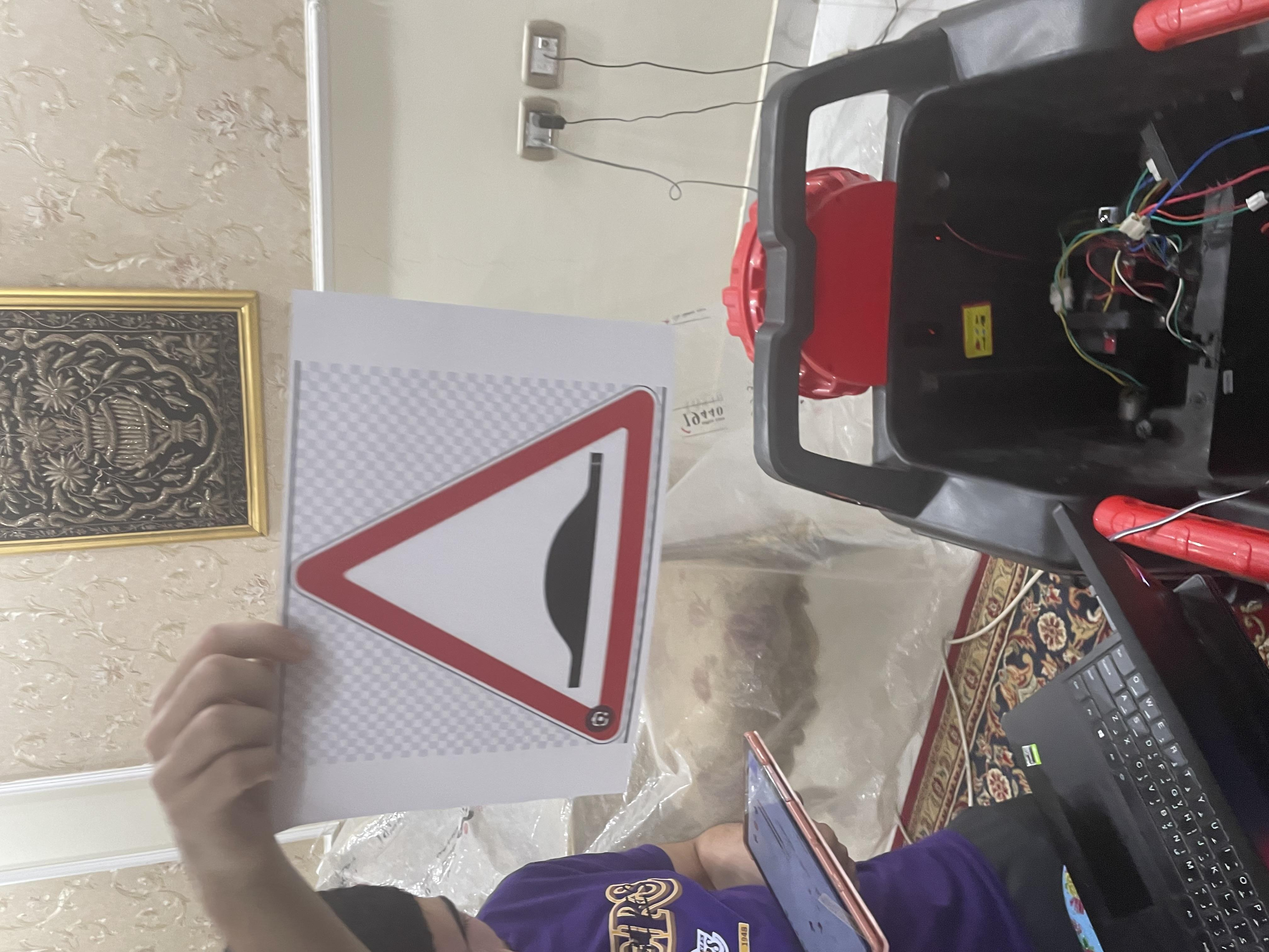Hump: (271, 213, 752, 479)
